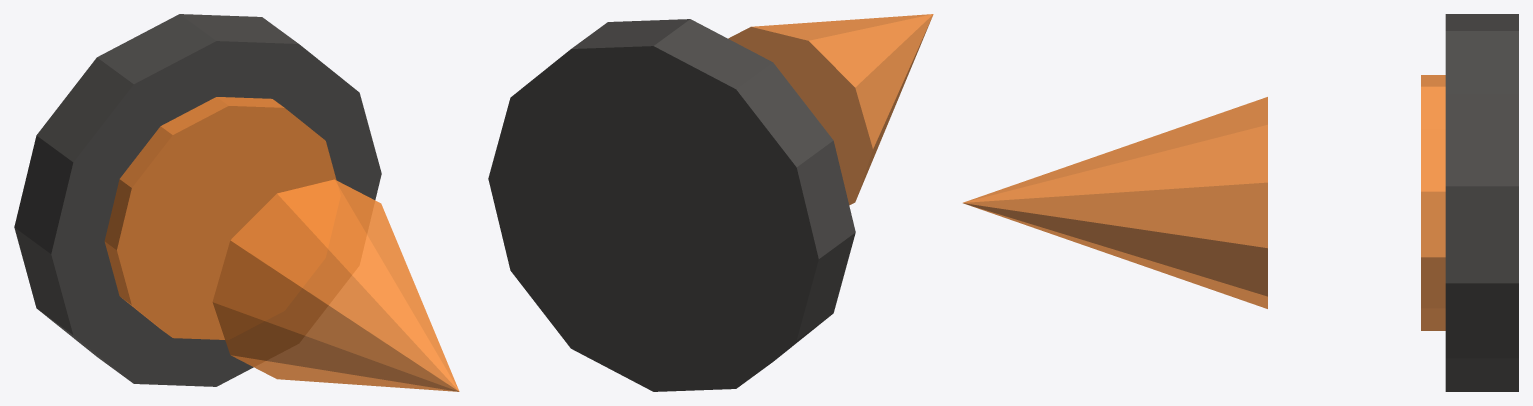
Rendered from volcanic_magma_vent.glb.
3 renders of one model, left to right at view 1: azimuth 30°, elevation 25°; view 2: azimuth 150°, elevation 25°; view 3: azimuth 270°, elevation 25°, orthographic.
Parts seen in each view (by area): view 1: vent_ring, heat_plume, lava_core; view 2: vent_ring, heat_plume; view 3: heat_plume, vent_ring, lava_core.
Part boxes in pixels (bbox=[...]): vent_ring: bbox=[14, 14, 381, 386]; heat_plume: bbox=[212, 179, 459, 391]; lava_core: bbox=[104, 97, 336, 339]; vent_ring: bbox=[488, 19, 855, 391]; heat_plume: bbox=[728, 14, 933, 205]; heat_plume: bbox=[963, 97, 1267, 308]; vent_ring: bbox=[1445, 14, 1518, 391]; lava_core: bbox=[1421, 75, 1445, 330].
Bounding box in the file's own units: 1.24 × 1.24 × 1.82.
